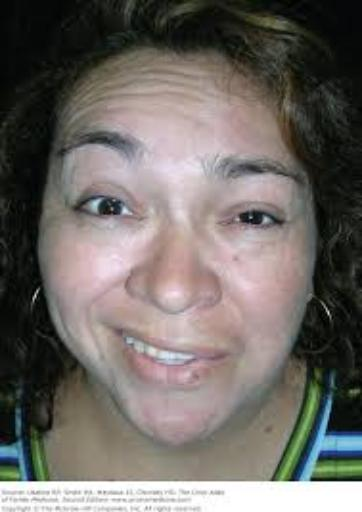left_eye: (221, 208, 286, 236)
left_lip_corner: (218, 345, 243, 369)
right_eye: (74, 194, 142, 226)
right_lip_corner: (104, 318, 135, 349)
